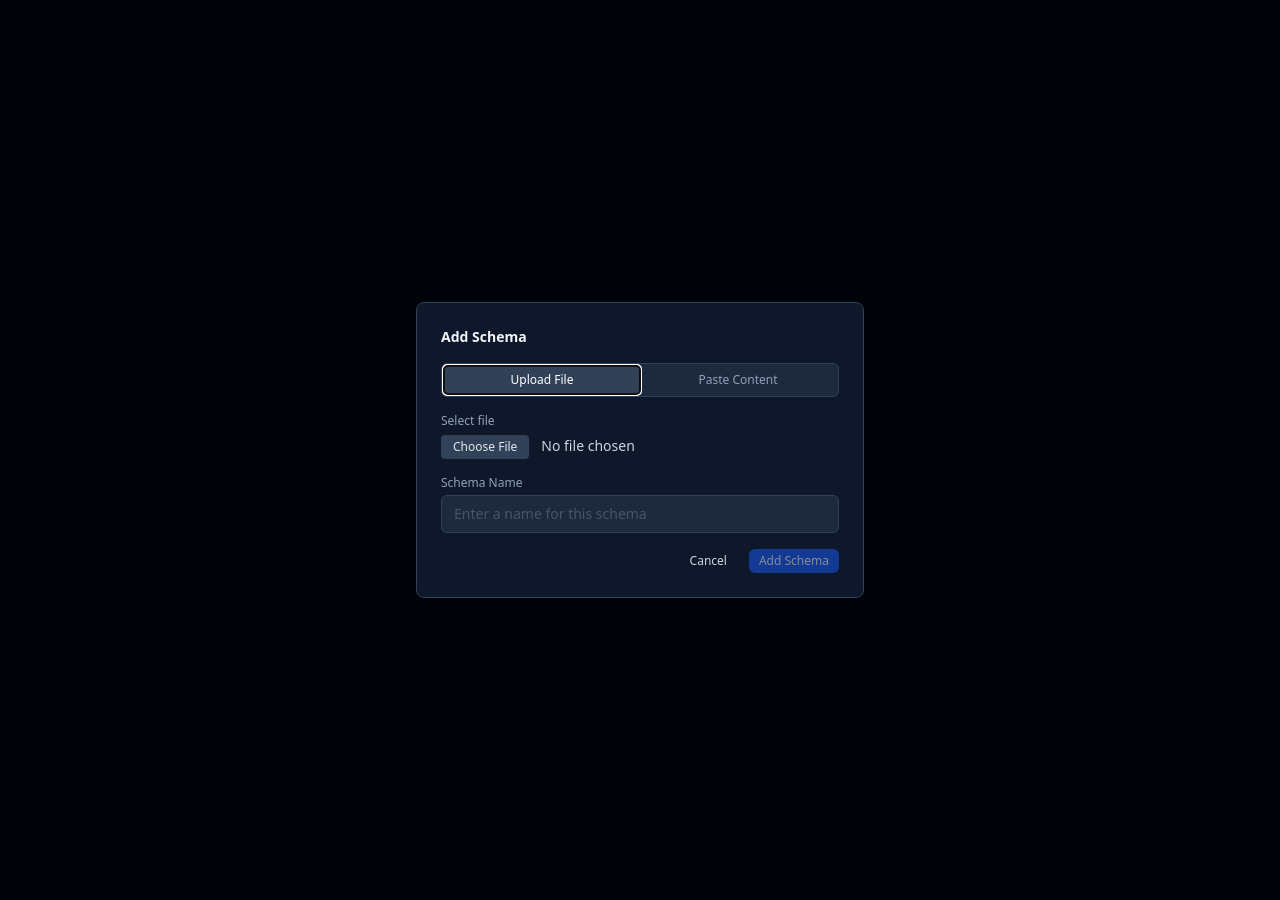
Scenario: SchemaUploadDialog — mode toggle › clicking Paste Content shows textarea and hides file input
The image size is (1280, 900).
Click the tab with test id "mode-tab-paste".
click(738, 380)  # box [640,366,836,394]
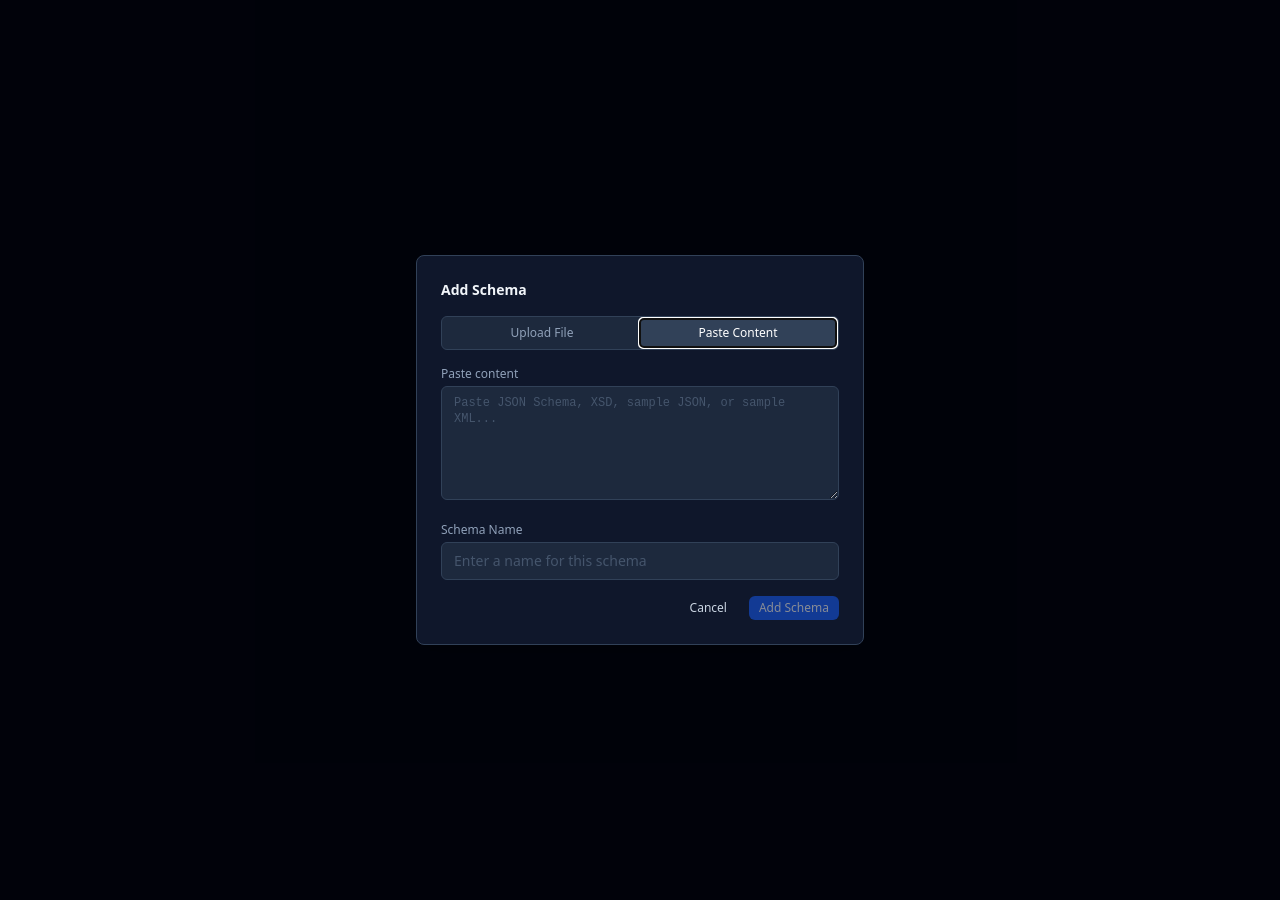
Expected: the text box with test id "paste-input" is shown, [441,386,839,500]
Expected: the file field with test id "file-input" is gone
